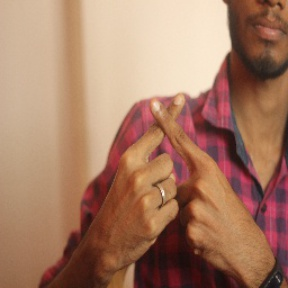X: (114, 85, 223, 196)
